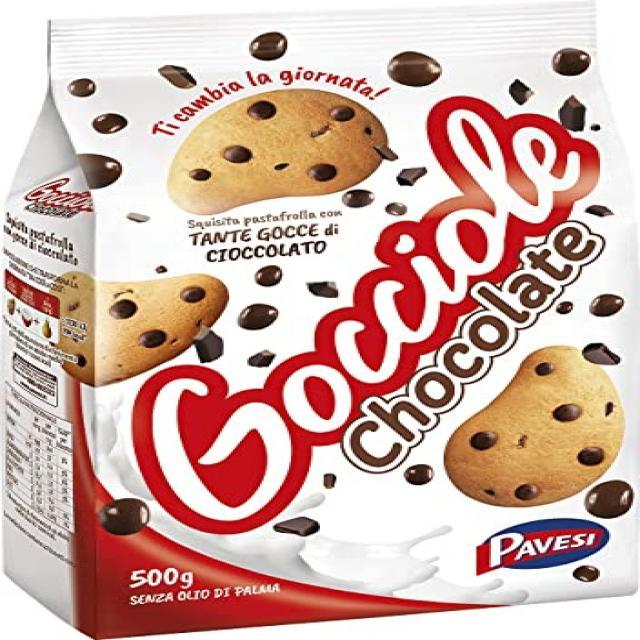Cookie: (444, 346, 628, 510), (164, 88, 393, 216)
